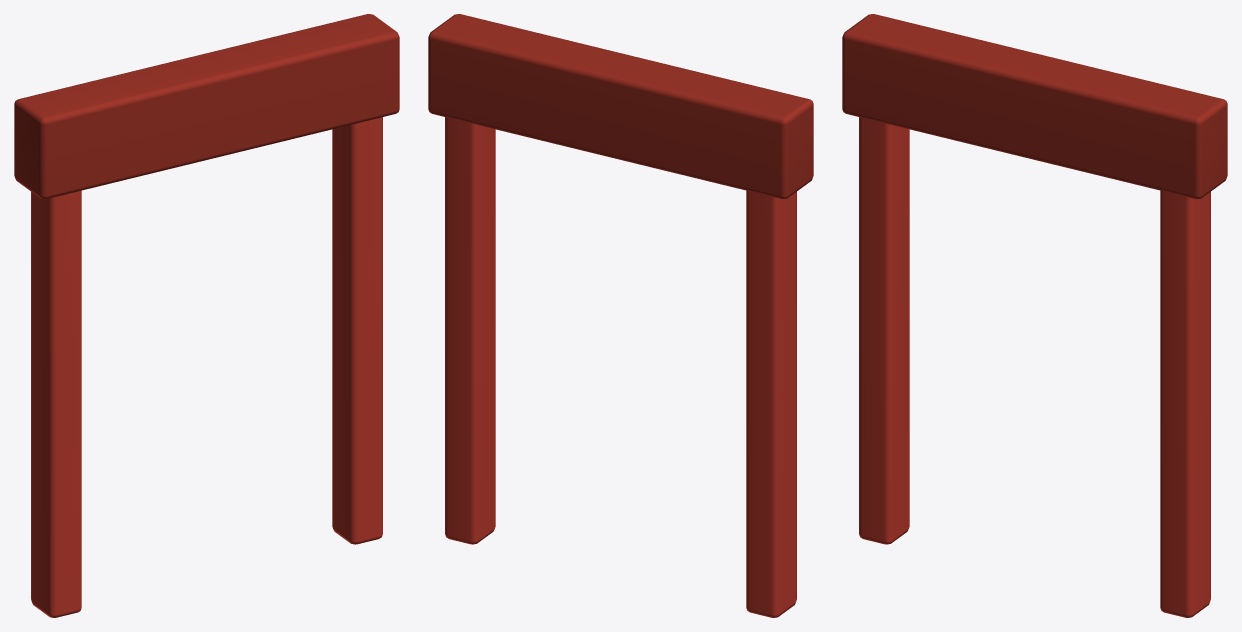
The model's file is alley_gate.glb.
3 renders of one model, left to right at view 1: azimuth 30°, elevation 25°; view 2: azimuth 150°, elevation 25°; view 3: azimuth 330°, elevation 25°, orthographic.
Parts seen in each view (by area): view 1: Beam, Post, Post.001; view 2: Beam, Post, Post.001; view 3: Beam, Post.001, Post.
Boxes of the visible parts, box(x1,y1,x2,y2) form: Beam: box(14, 14, 399, 199); Post: box(31, 190, 81, 617); Post.001: box(332, 117, 382, 544); Beam: box(428, 14, 813, 199); Post: box(746, 190, 796, 617); Post.001: box(445, 117, 495, 544); Beam: box(842, 14, 1227, 199); Post.001: box(1160, 190, 1210, 617); Post: box(859, 117, 909, 544).
Size of the model in its own units: 2.75 by 3.7 by 0.4.
